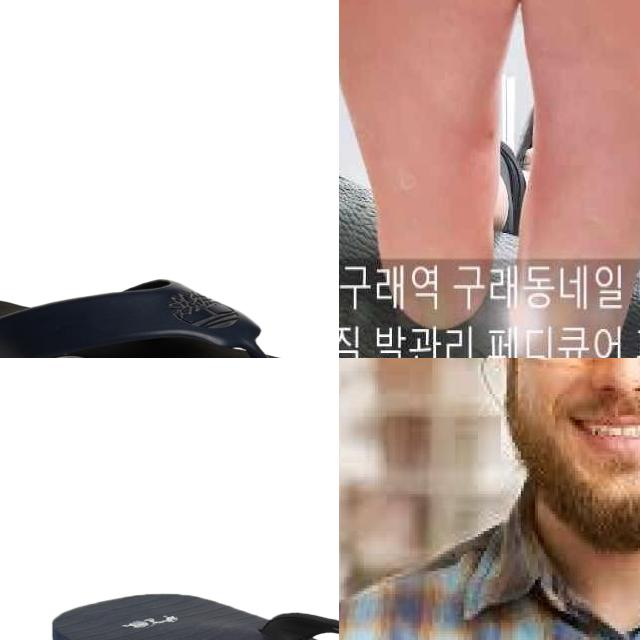Barefoots: (339, 0, 523, 358), (528, 0, 640, 358)
No_Ear-Protection: (478, 358, 530, 412)
Sandals: (0, 277, 339, 358)
face_nomask: (512, 358, 640, 547)
